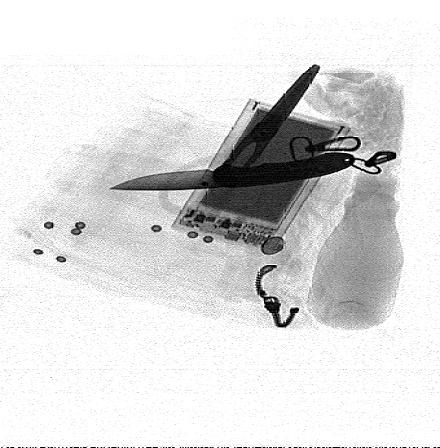Knife: (106, 154, 354, 191)
Powerbank: (170, 97, 354, 252)
Scissors: (158, 61, 328, 231)
